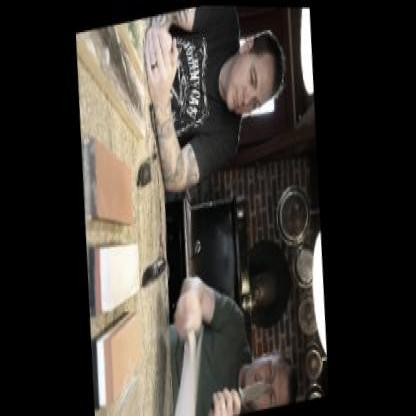knife: (215, 368, 282, 414)
